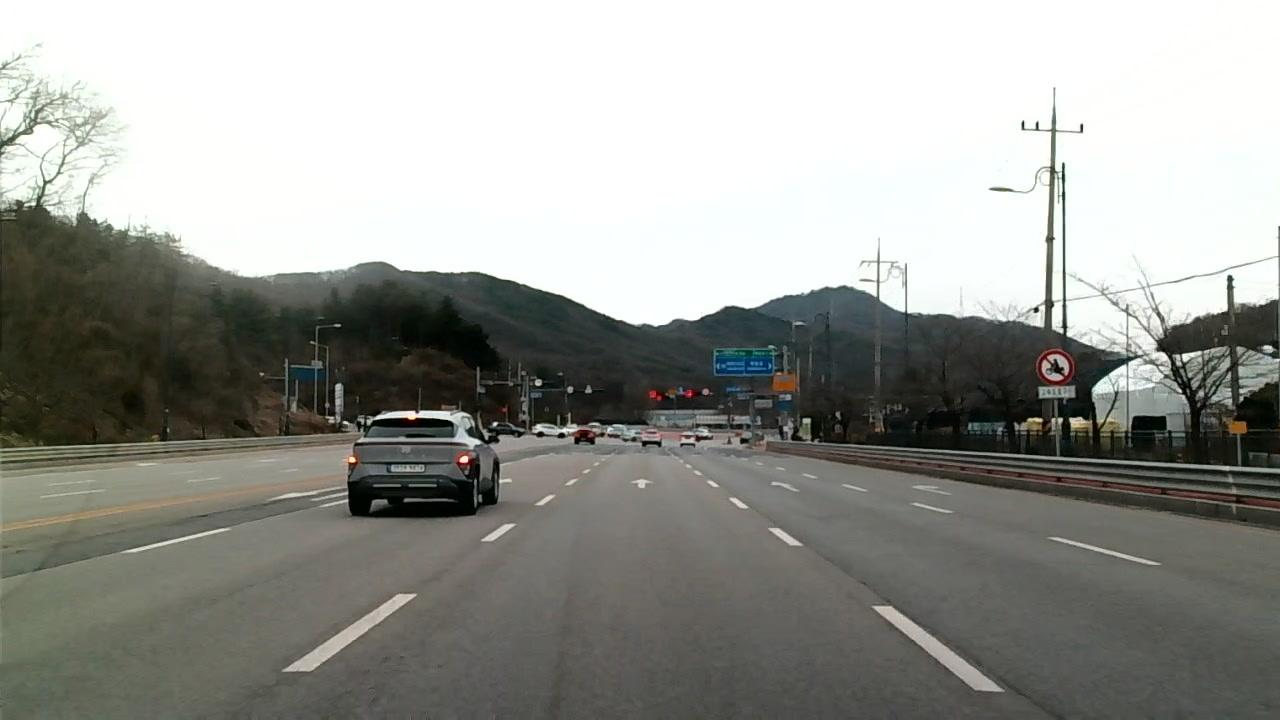banner: (897, 608, 1071, 720), (6, 534, 176, 578)
